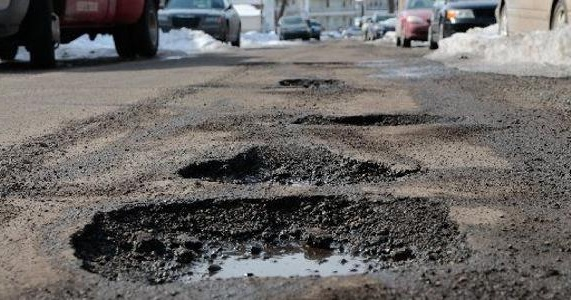pothole: (65, 192, 473, 286), (174, 140, 426, 187), (291, 111, 465, 127), (278, 75, 340, 89)
